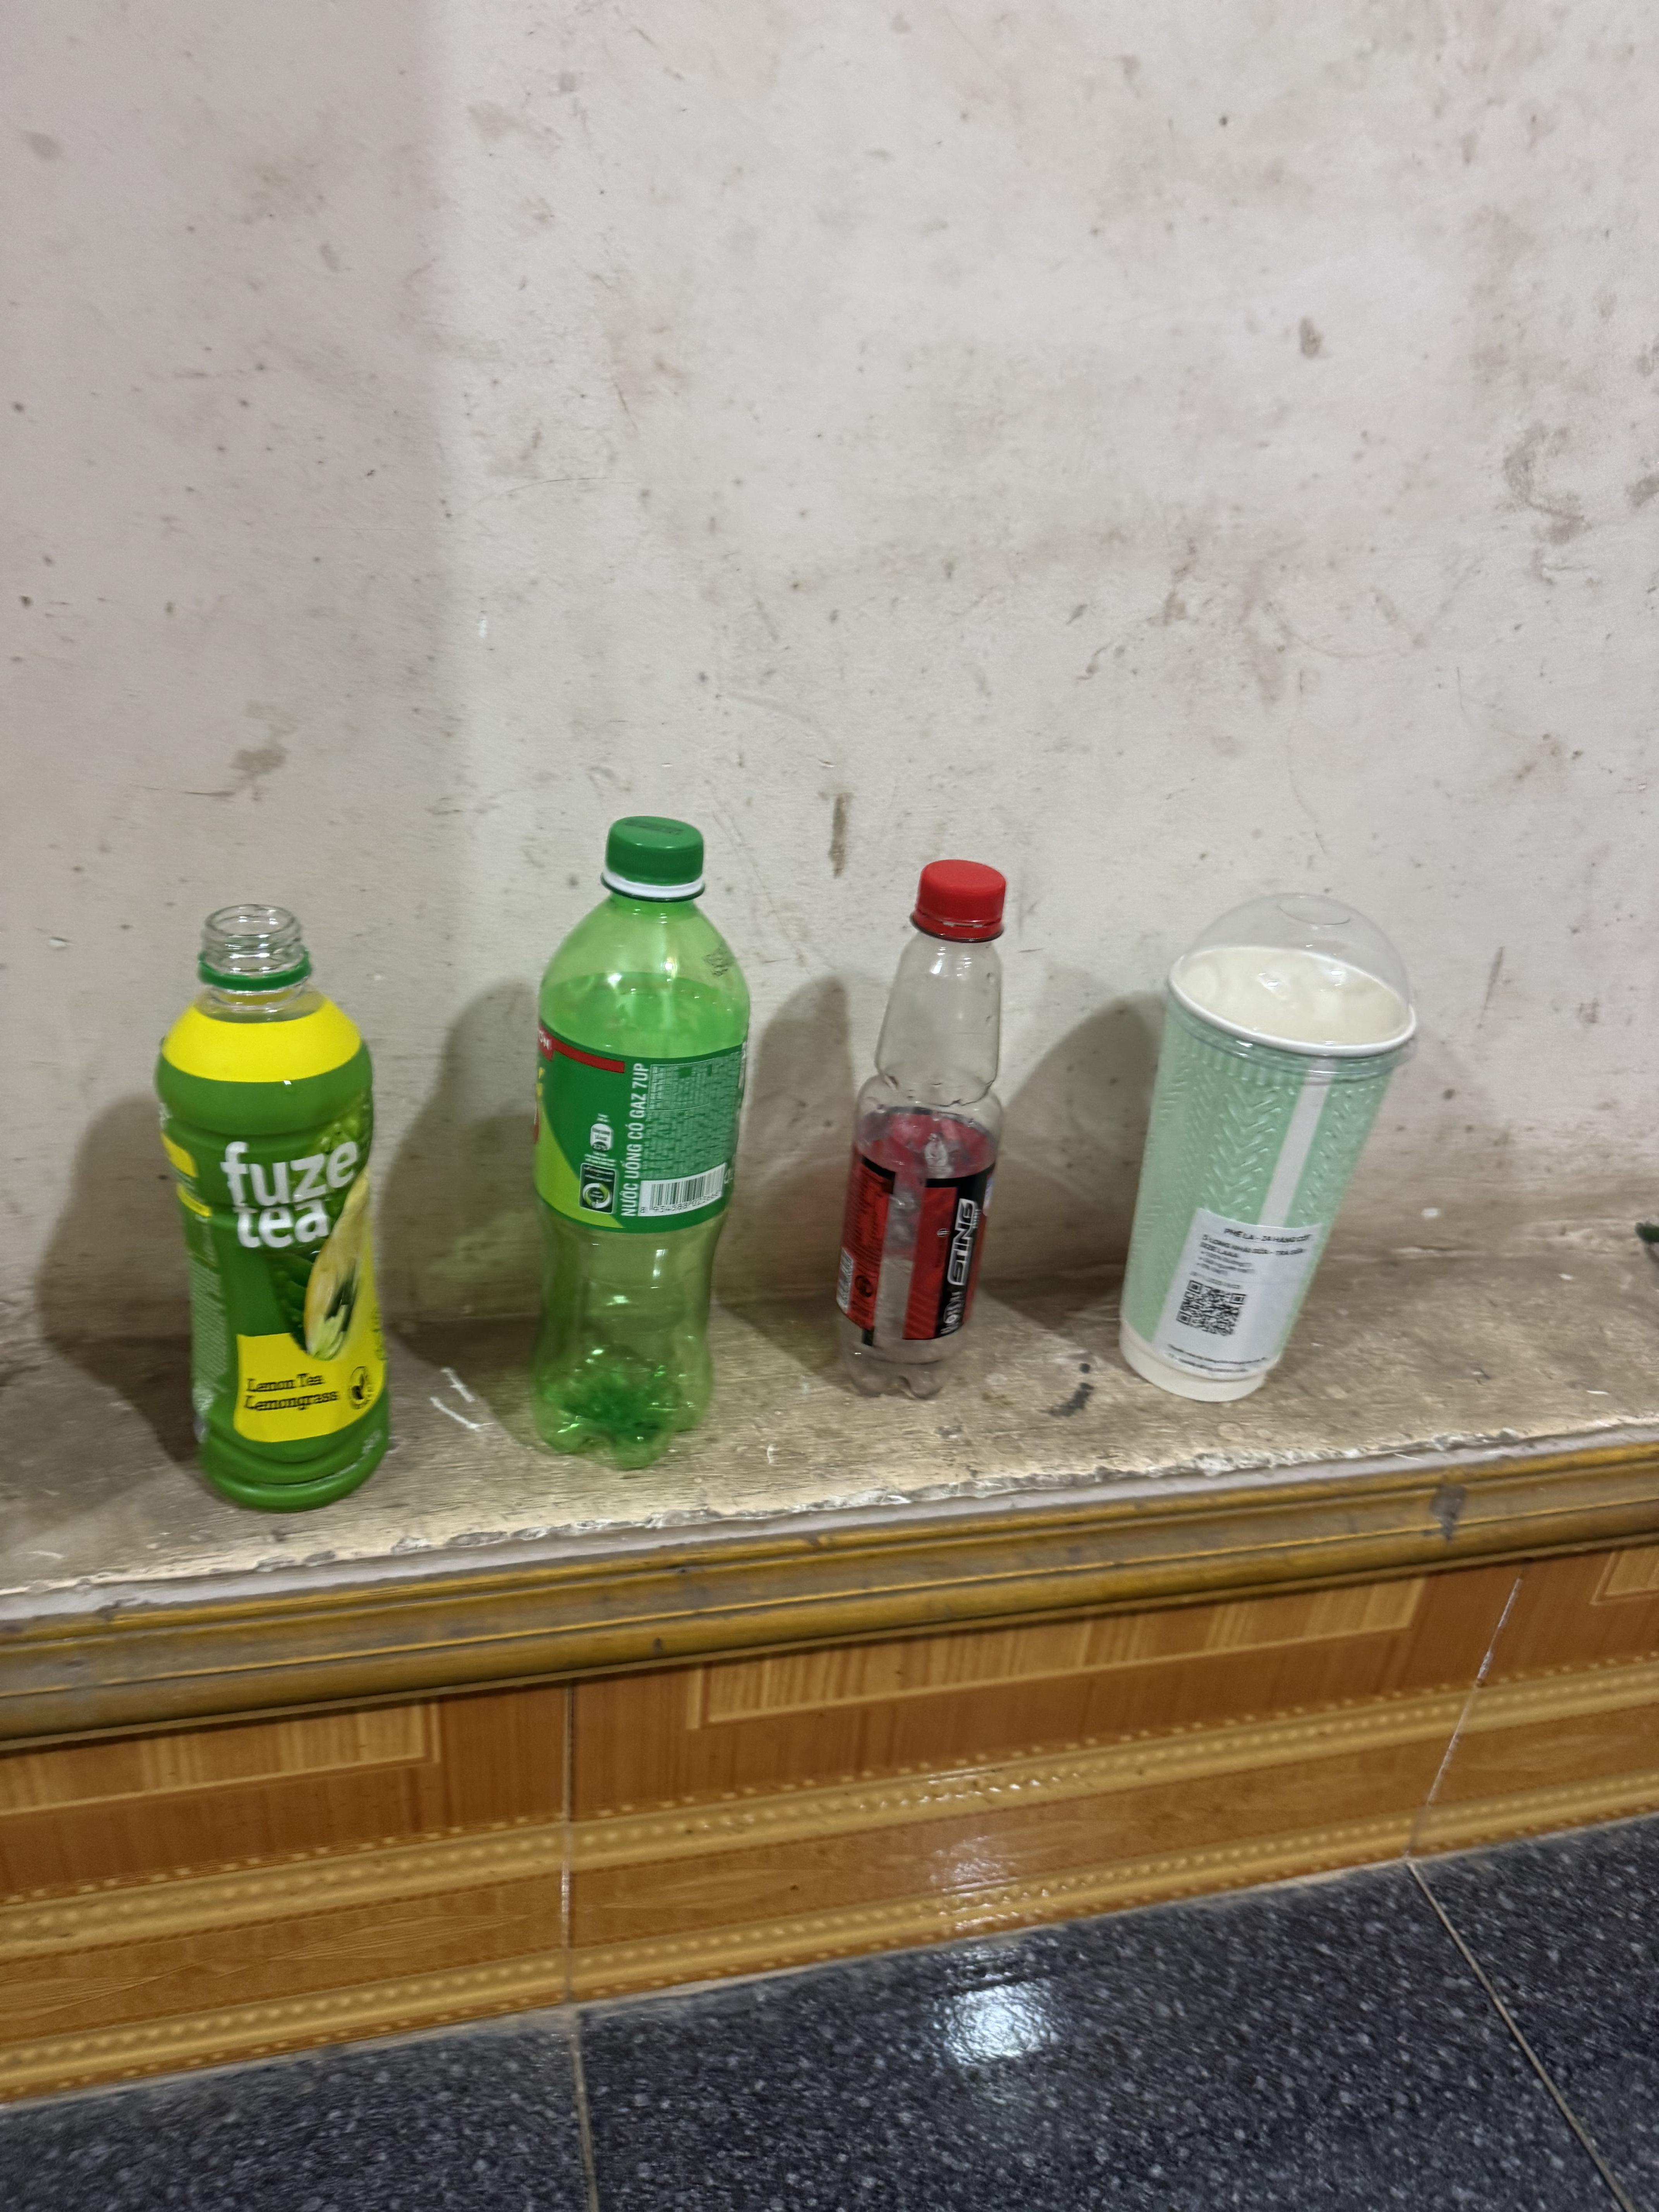2: (1047, 871, 1439, 1437)
bottle: (479, 779, 784, 1496), (143, 871, 423, 1559), (793, 833, 1040, 1442)
